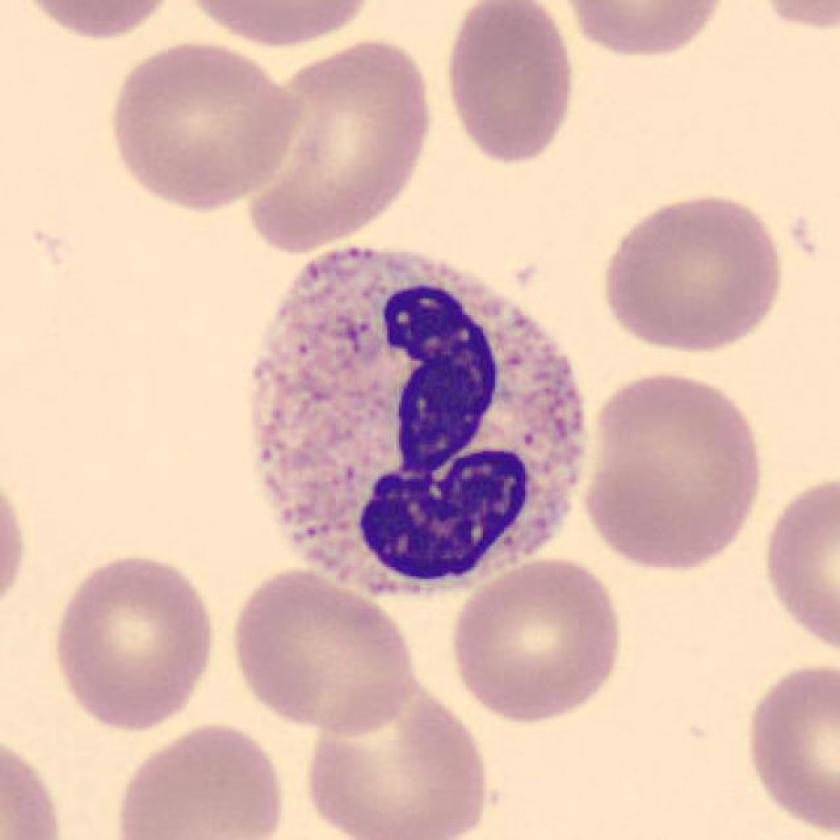neutrophil: (252, 252, 586, 598)
